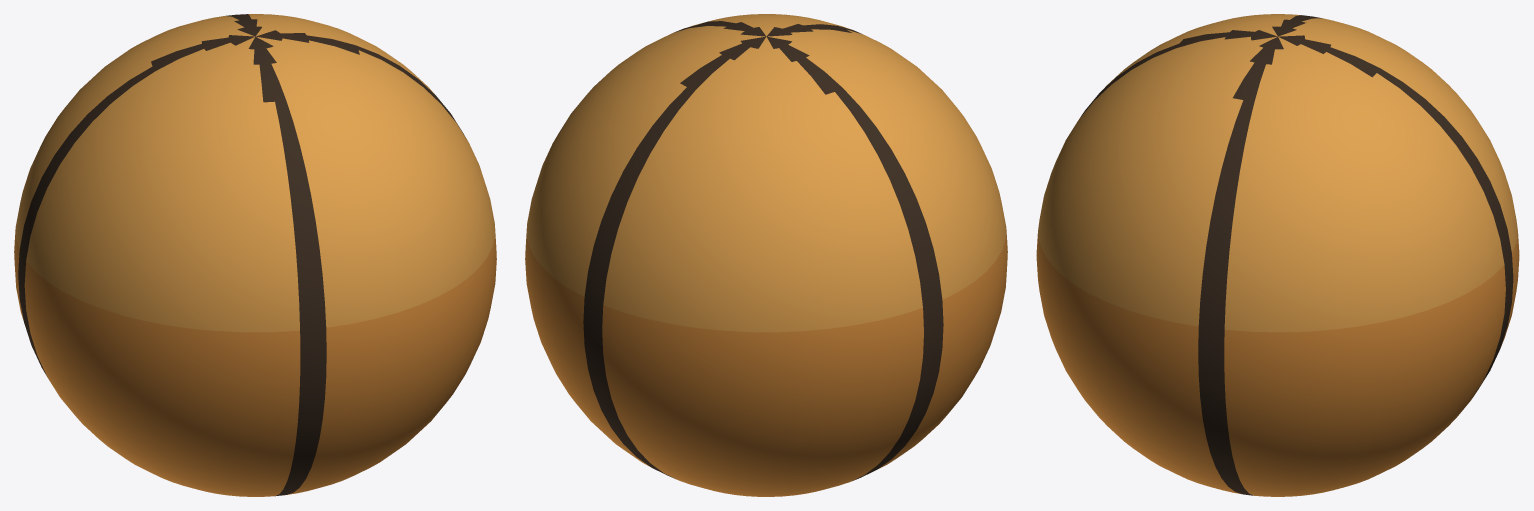
Rendered from basketball.glb.
3 renders of one model, left to right at view 1: azimuth 30°, elevation 25°; view 2: azimuth 150°, elevation 25°; view 3: azimuth 270°, elevation 25°, orthographic.
Parts seen in each view (by area): view 1: Basketball; view 2: Basketball; view 3: Basketball.
Part boxes in pixels (x1,y1,x2,y2): Basketball: (14,14,496,496); Basketball: (525,14,1007,496); Basketball: (1036,14,1519,496).
Bounding box in the file's own units: 0.44 × 0.44 × 0.44.
